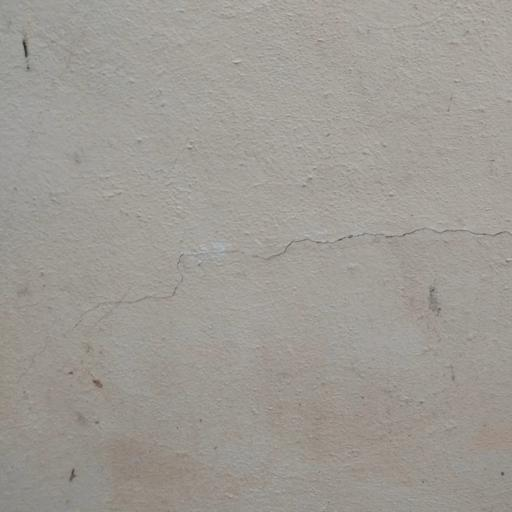minor_crack: (66, 217, 512, 327)
